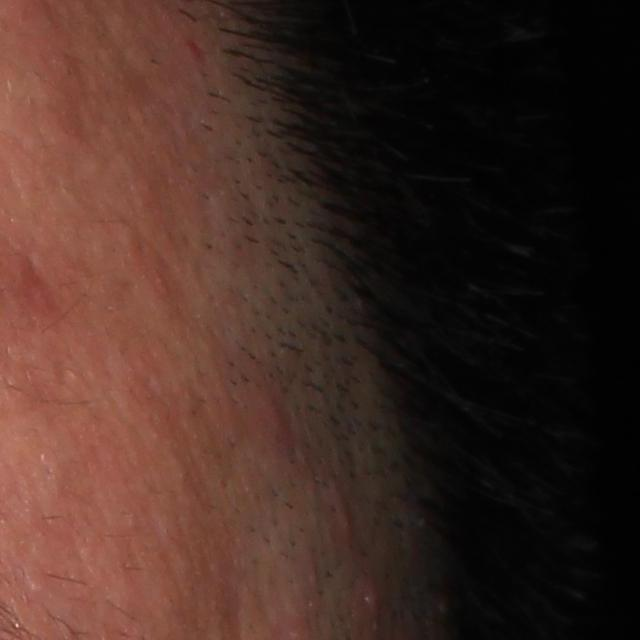papule: (254, 390, 299, 446), (360, 571, 387, 622), (334, 496, 355, 537)
